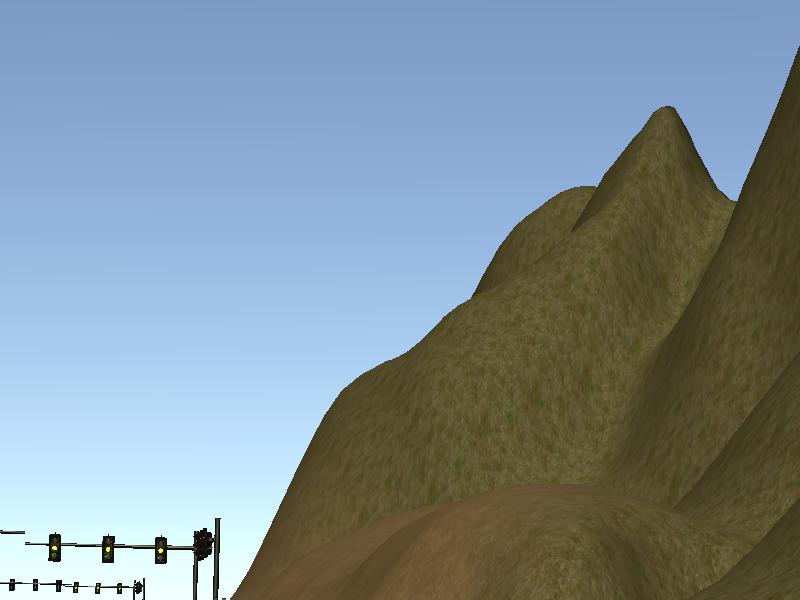yellow_light: (47, 533, 61, 562), (101, 537, 115, 565), (155, 537, 168, 562)
